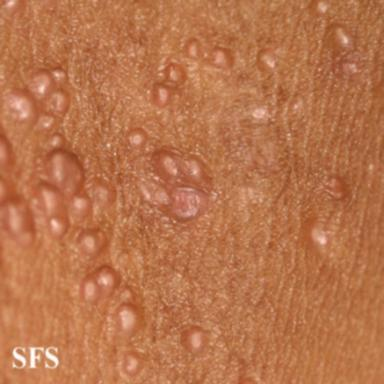Molluscum-Contagiosum: (35, 133, 115, 239), (139, 148, 212, 221), (4, 68, 70, 130), (0, 134, 35, 246), (151, 62, 186, 107), (185, 39, 234, 70), (80, 266, 120, 303), (77, 229, 107, 258), (181, 326, 208, 354), (117, 303, 139, 336), (325, 177, 349, 200), (123, 352, 143, 376), (332, 26, 352, 49), (257, 49, 276, 71), (310, 225, 329, 247), (127, 129, 146, 148), (315, 1, 329, 15)
